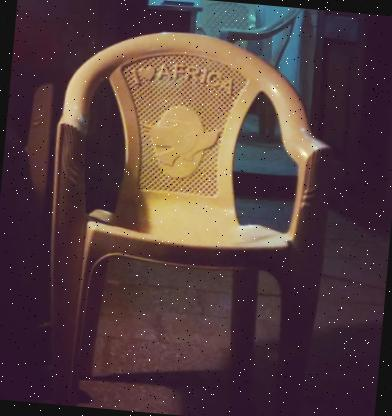chair: (27, 13, 351, 411)
